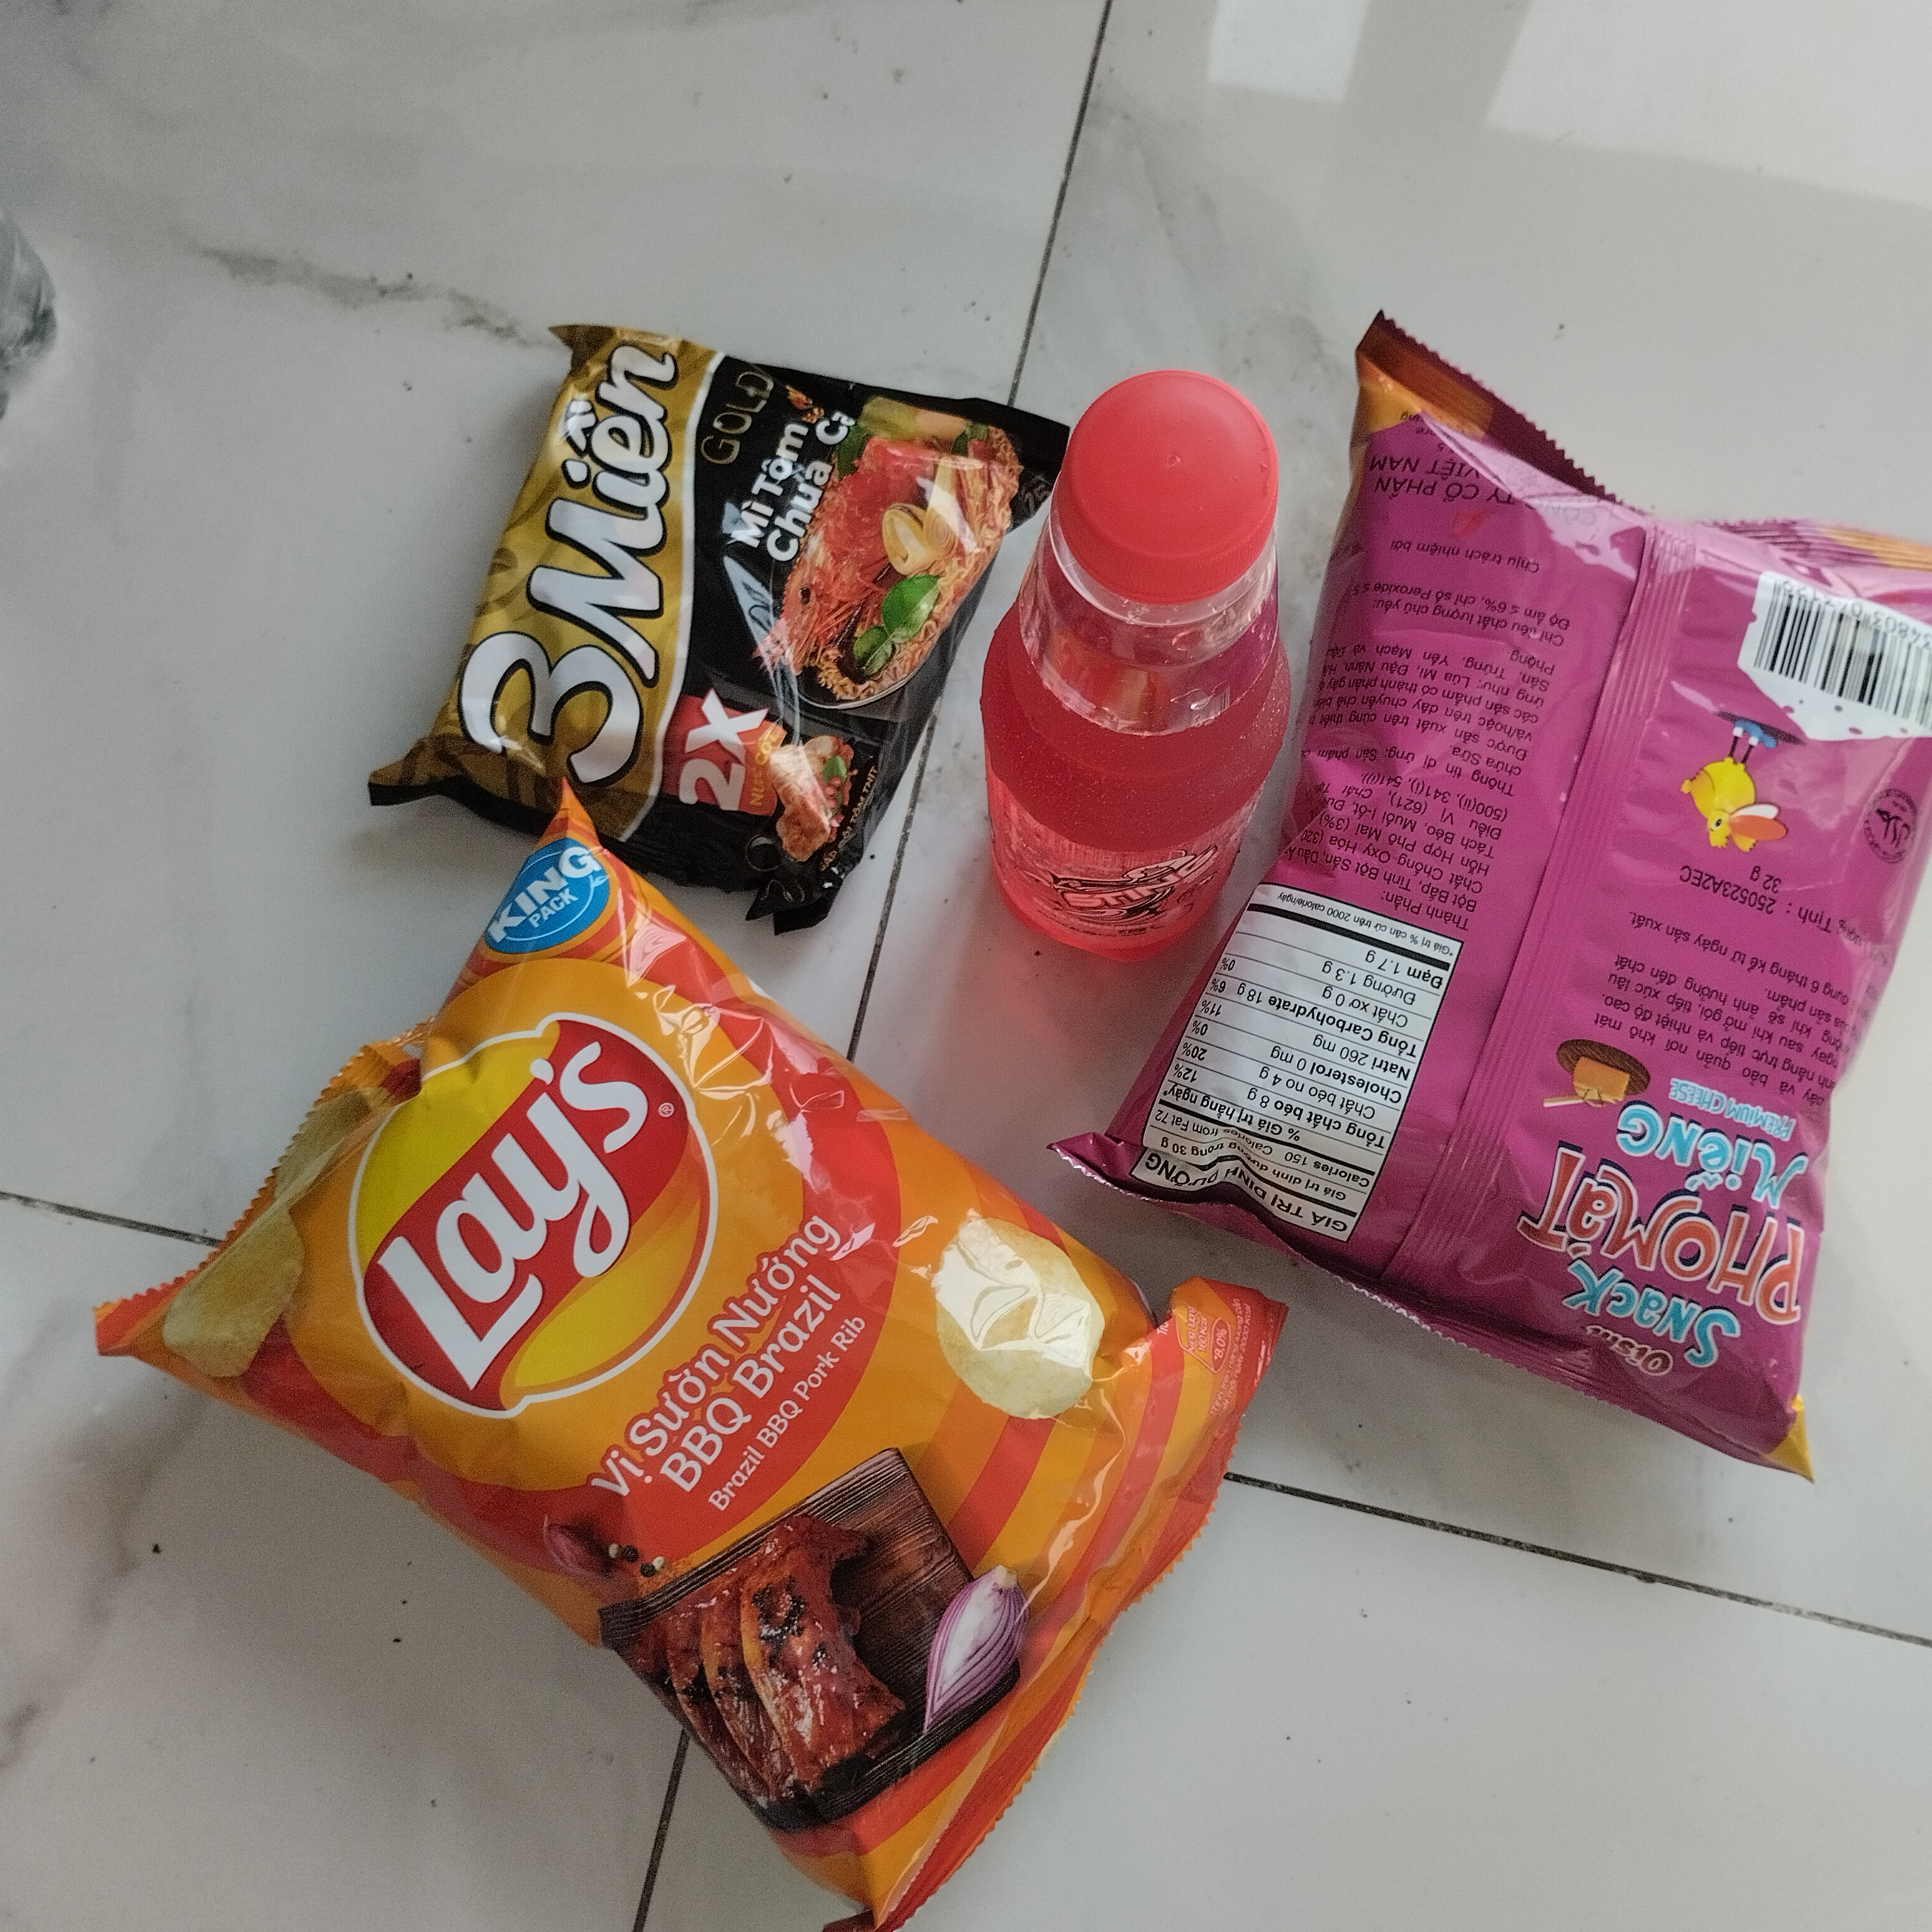3mien: (361, 313, 1054, 941)
Lays: (83, 786, 1299, 1930)
Oishi_phomat: (1054, 313, 1930, 1497)
Sting: (975, 361, 1304, 957)
